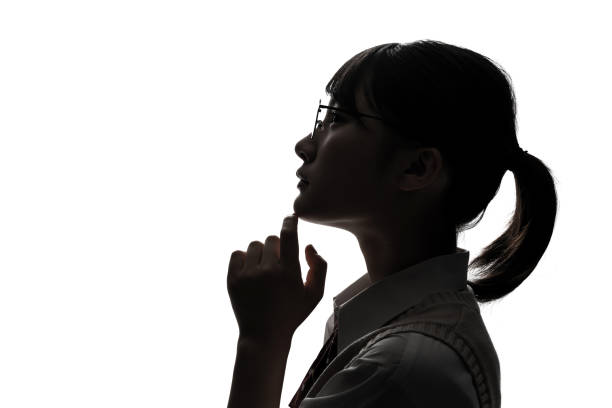without mask: (289, 67, 450, 236)
